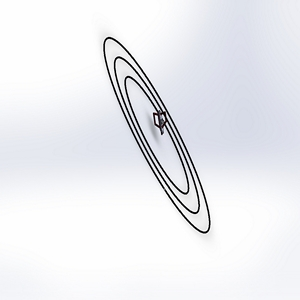circle: (80, 31, 222, 243)
submarine: (149, 105, 169, 145)
